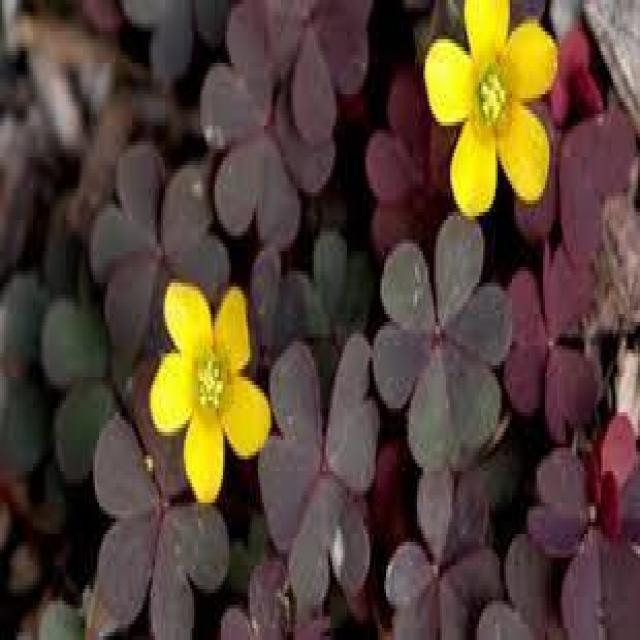organic waste: (426, 6, 569, 218), (144, 275, 276, 502)
